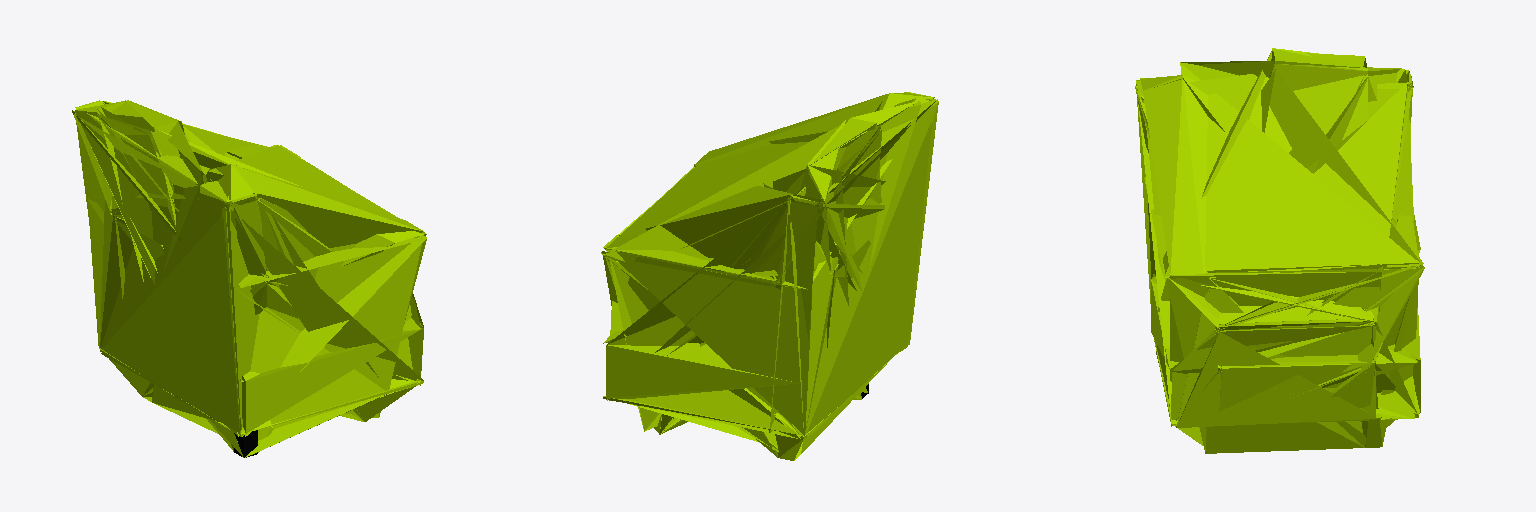
File: Armchair.obj
The picture shows the model from 3 angles: view 1: azimuth 30°, elevation 25°; view 2: azimuth 150°, elevation 25°; view 3: azimuth 270°, elevation 25°; orthographic projection.
Parts seen in each view (by area): view 1: Box001, Box002; view 2: Box001; view 3: Box001, Box002.
Boxes of the visible parts, box(x1,y1,x2,y2) form: Box001: box(72, 100, 426, 457); Box002: box(143, 388, 378, 450); Box001: box(601, 92, 938, 460); Box001: box(1135, 48, 1424, 450); Box002: box(1205, 320, 1381, 453).
Bounding box in the file's own units: 111014 × 137411 × 115924.